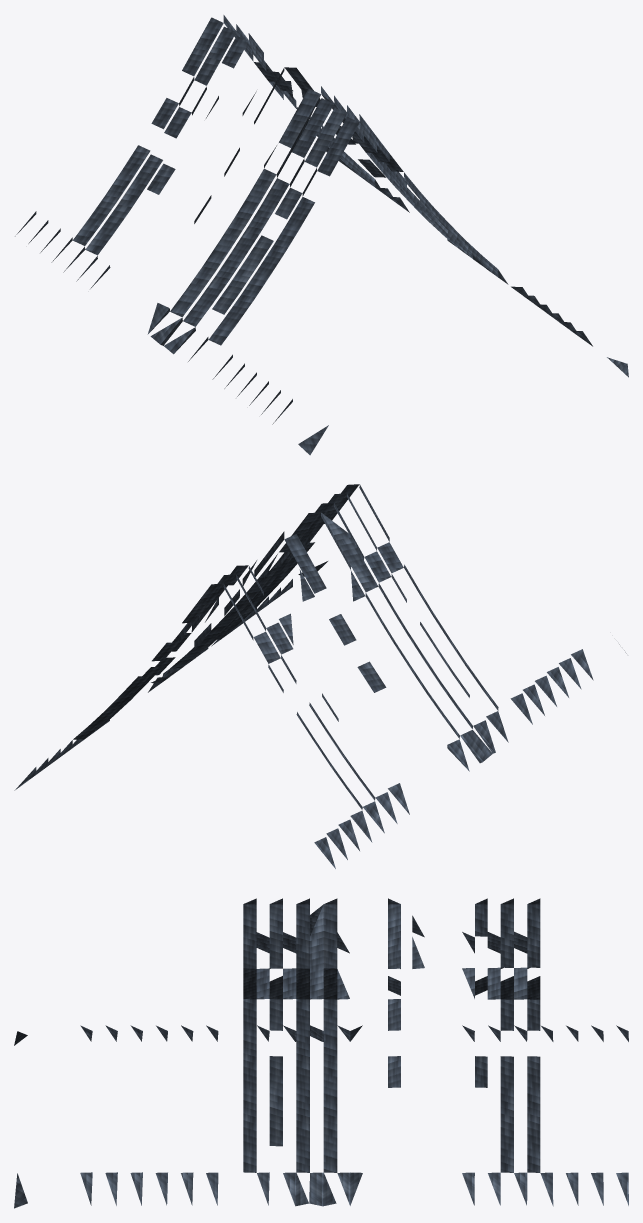
File: Roof_Slate_6x12_LOD2.gltf
3 views of the same model, one above another, from view 1: azimuth 30°, elevation 25°; view 2: azimuth 150°, elevation 25°; view 3: azimuth 270°, elevation 25° (orthographic). The views are drawn at different scales.
Visible parts, largest first — view 1: Roof_Slate_6x12_LOD2; view 2: Roof_Slate_6x12_LOD2; view 3: Roof_Slate_6x12_LOD2.
Boxes of the visible parts, x1,y1,x2,y2 form: Roof_Slate_6x12_LOD2: [15, 15, 628, 455]; Roof_Slate_6x12_LOD2: [14, 484, 626, 868]; Roof_Slate_6x12_LOD2: [14, 898, 628, 1208].
Bounding box in the file's own units: 8.25 × 5.17 × 12.77.
1 material, 1 textured.
